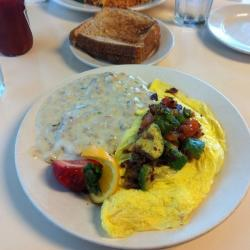bread: (70, 8, 163, 68)
omelette: (118, 86, 224, 235)
